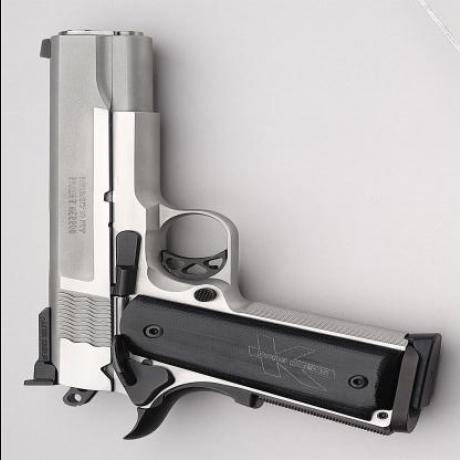weapon: (14, 19, 444, 433)
